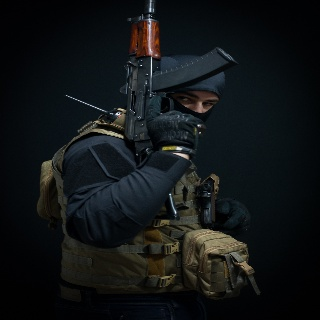rifle: (118, 1, 241, 220)
